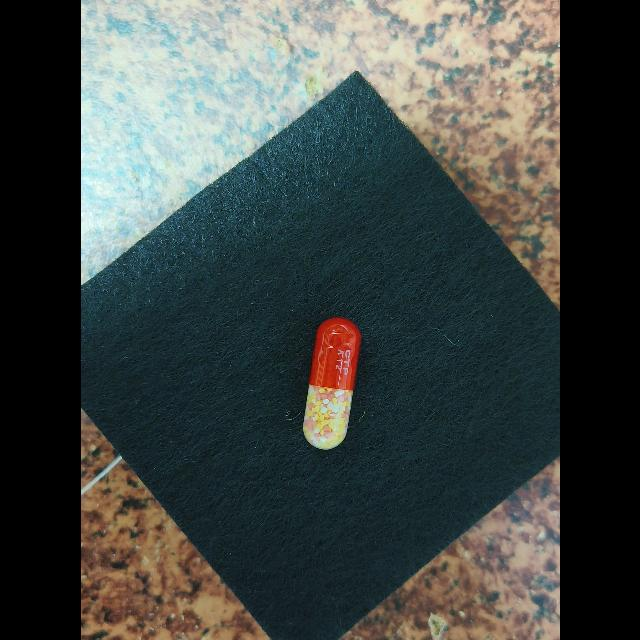Intact Capsule: (303, 317, 361, 449)
